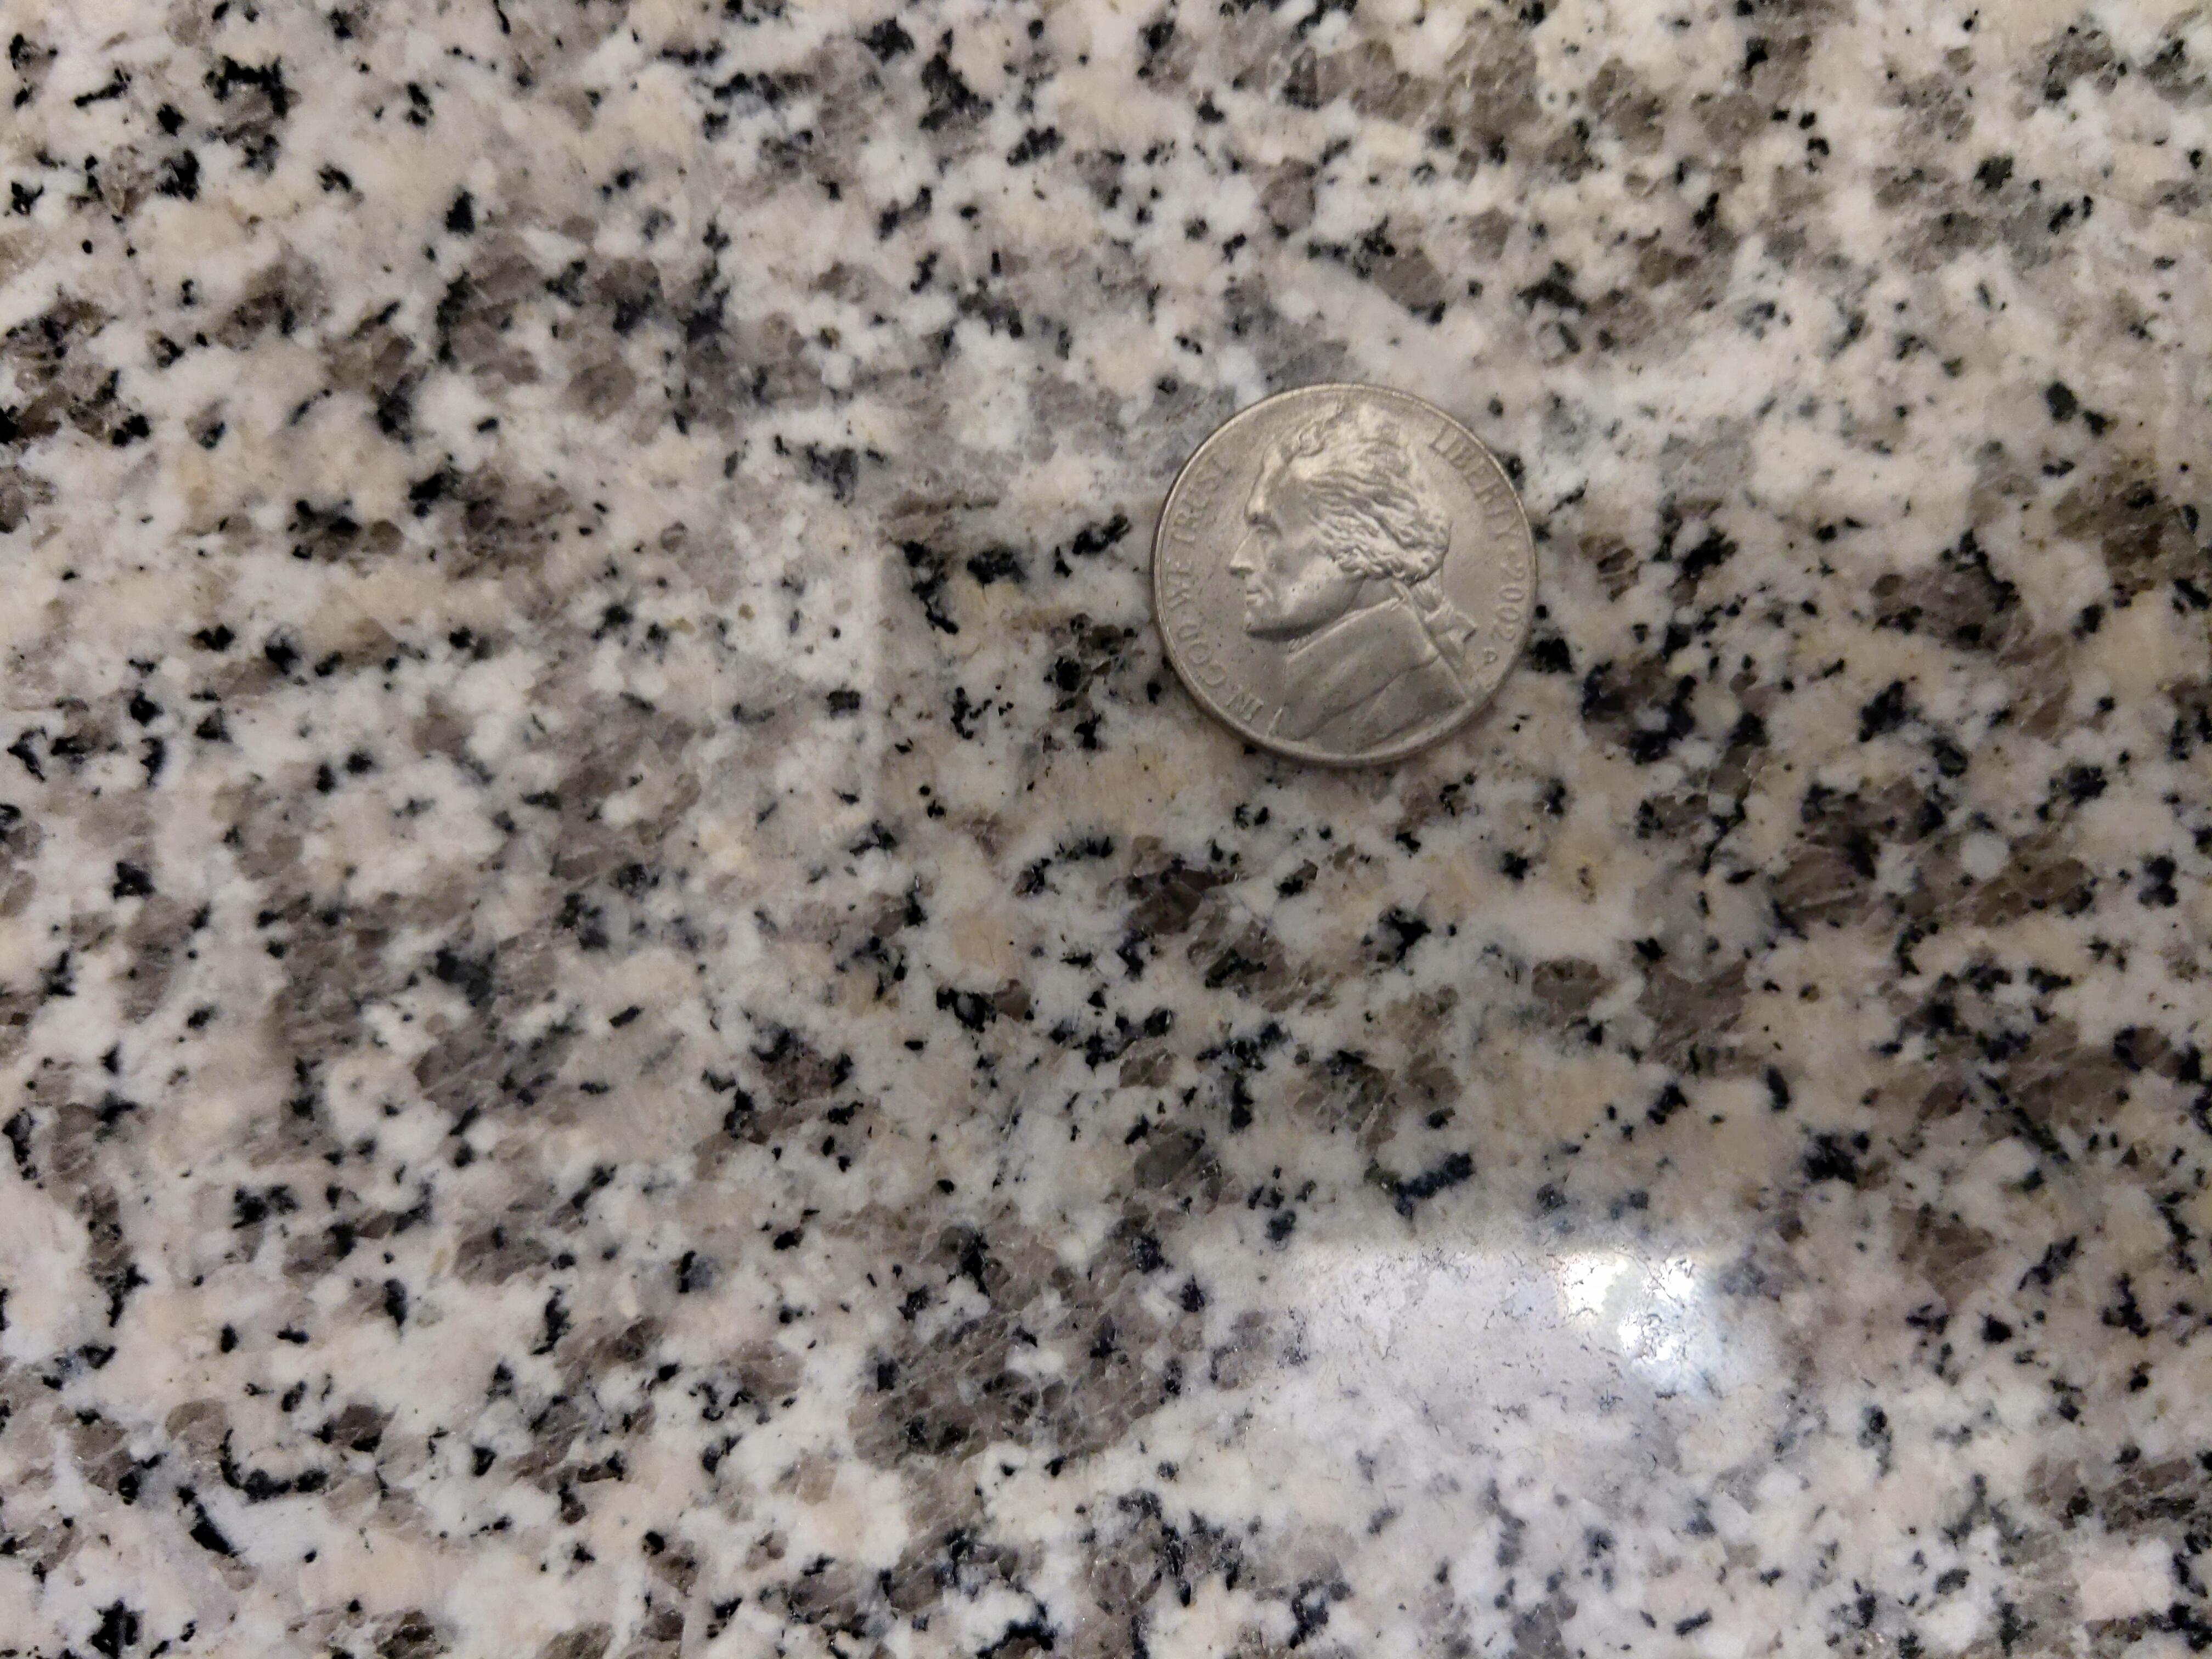Nickel: (1148, 382, 1545, 767)
